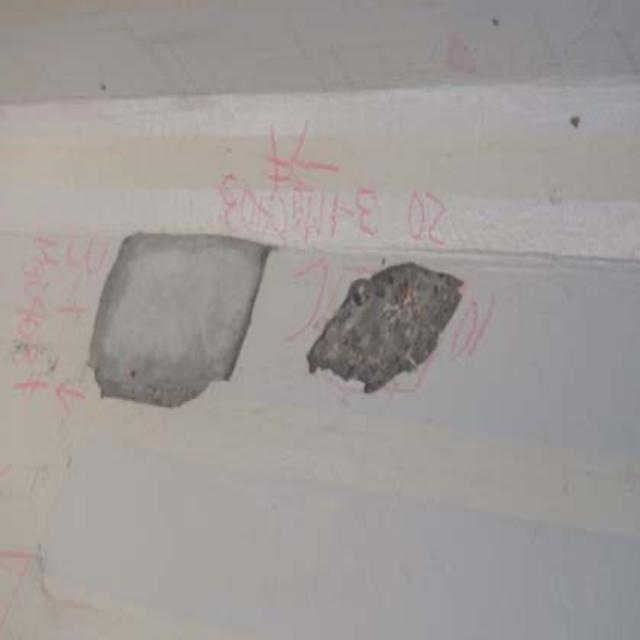spalling: (76, 206, 274, 430), (303, 226, 474, 407)
